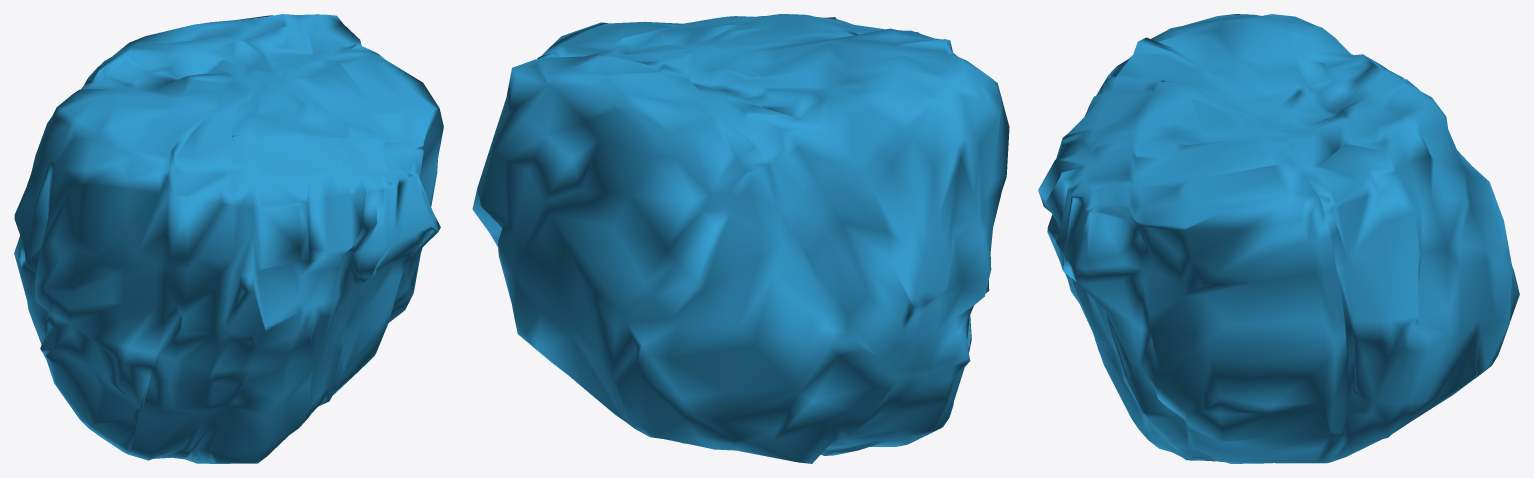
The model's file is Rock_04_Lod1.fbx.
3 renders of one model, left to right at view 1: azimuth 30°, elevation 25°; view 2: azimuth 150°, elevation 25°; view 3: azimuth 270°, elevation 25°, orthographic. The views are drawn at different scales.
Visible parts, largest first — view 1: Rock_04_Lod1; view 2: Rock_04_Lod1; view 3: Rock_04_Lod1.
Boxes of the visible parts, x1,y1,x2,y2 form: Rock_04_Lod1: (14,14,443,463); Rock_04_Lod1: (472,14,1009,463); Rock_04_Lod1: (1038,14,1519,463).
Size of the model in its own units: 3846 by 3345 by 3845.
